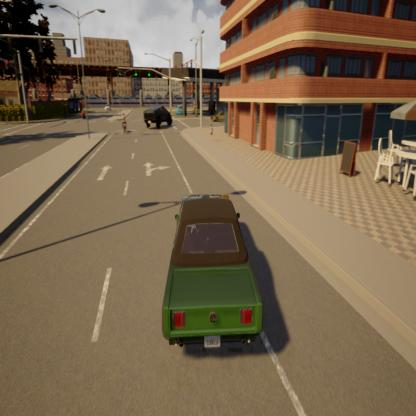Cars: (164, 196, 262, 351), (144, 103, 173, 130), (212, 107, 228, 121), (120, 112, 128, 136), (194, 100, 202, 116), (176, 102, 184, 114), (105, 99, 111, 113), (81, 105, 86, 120)
Pedestrian: (208, 125, 214, 137)
